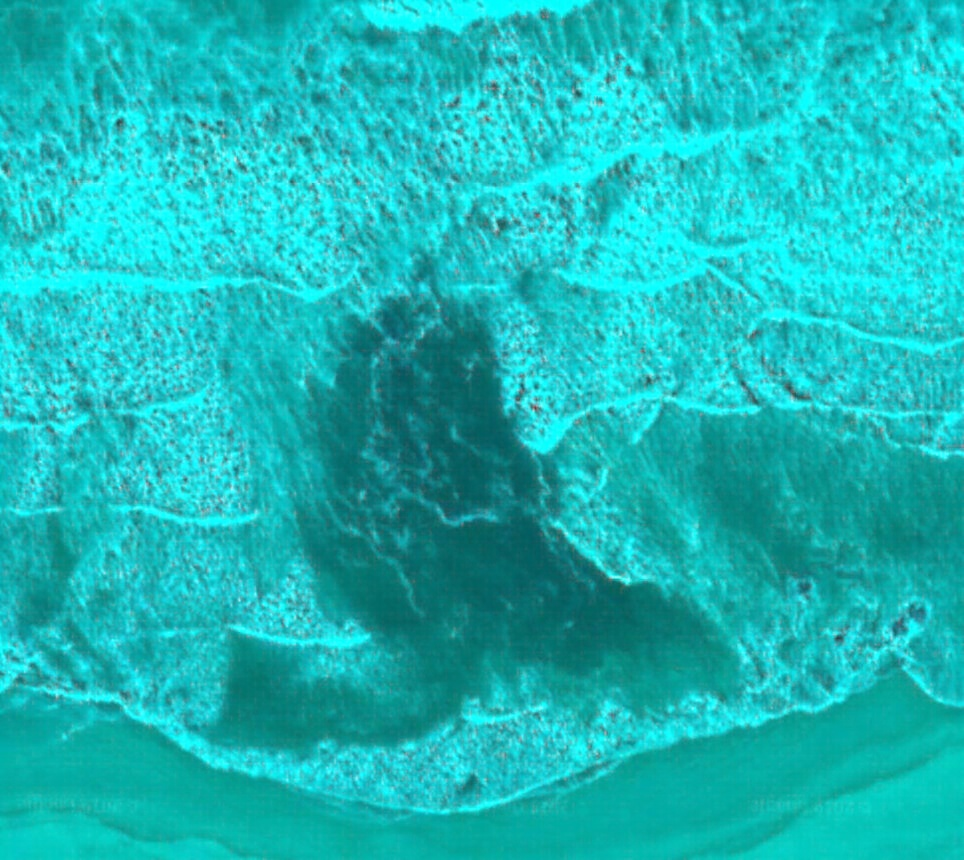rip_current: (180, 116, 755, 703)
